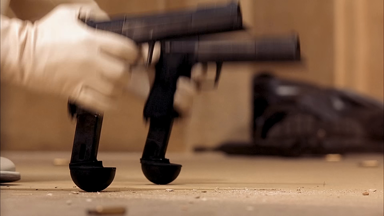firearm: (65, 3, 243, 191), (136, 30, 301, 185)
